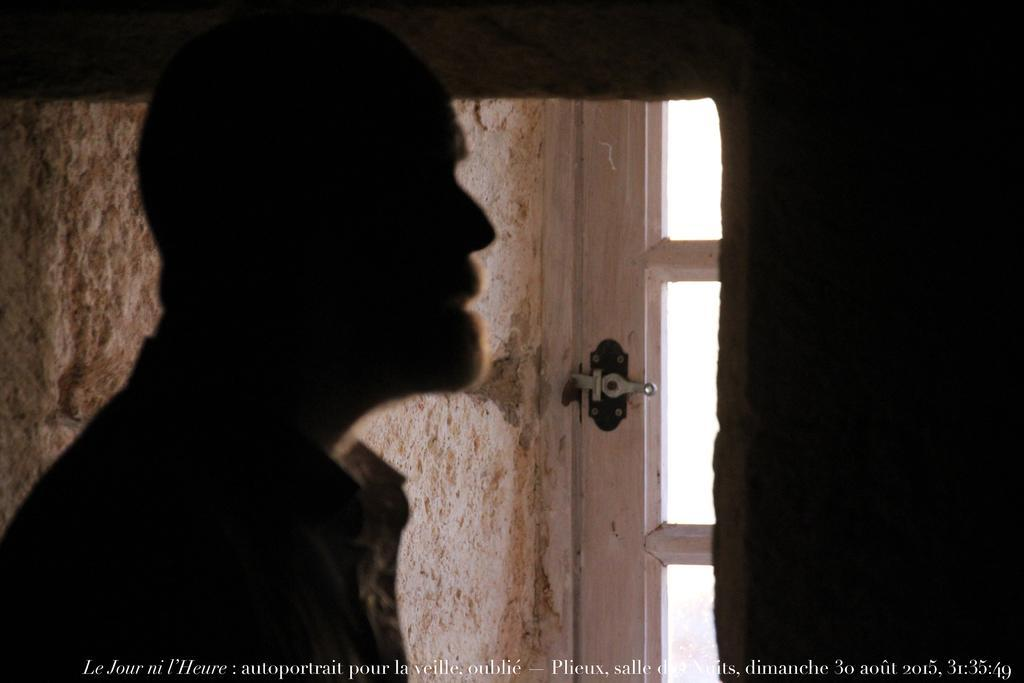door: (580, 118, 710, 672)
handle: (566, 338, 660, 431)
